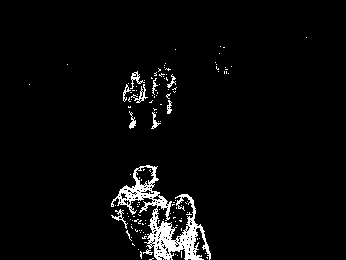person: (111, 161, 170, 260), (151, 192, 211, 260), (150, 64, 178, 130), (121, 70, 149, 129)
